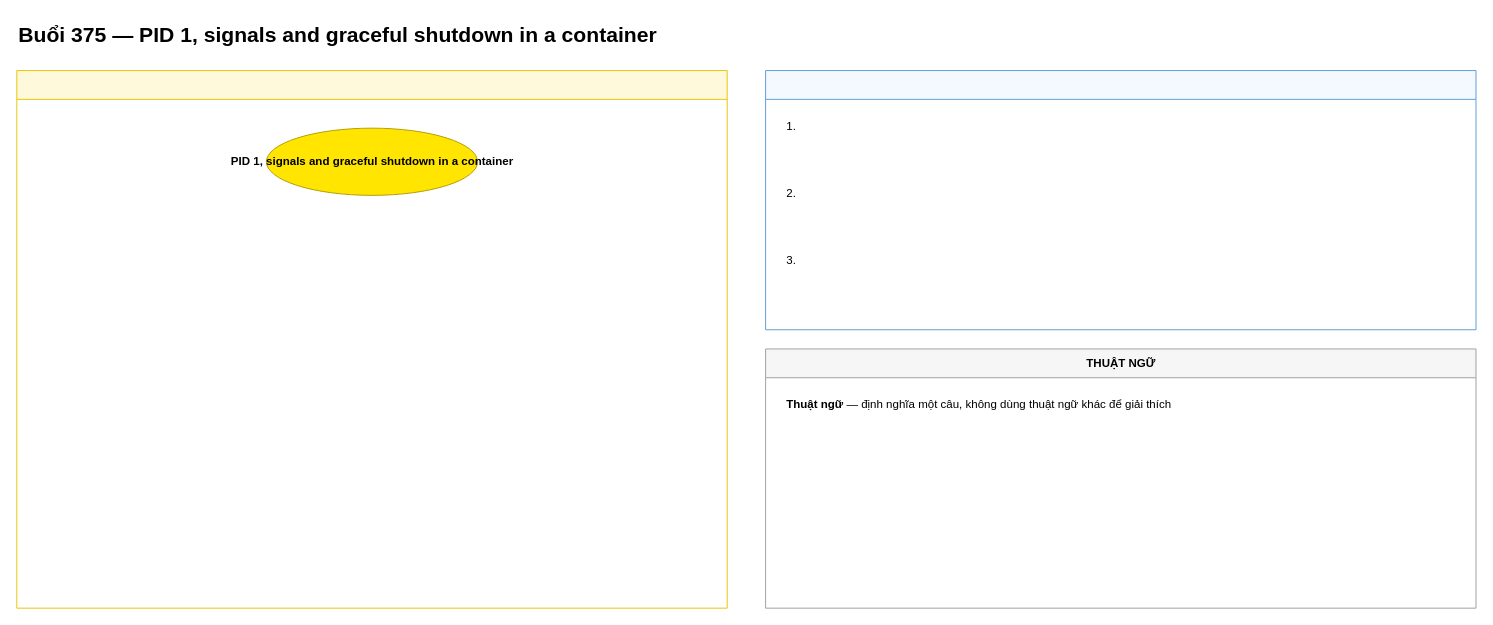
This 1493x625 diagram has some shape labels left out. The box of each missing label's shape, as (x1, y1, x2, y2) in pixels:
KEY TAKEAWAY — ba điều phải nhớ: (765, 70, 1476, 330)
MINDMAP: (16, 70, 727, 608)
